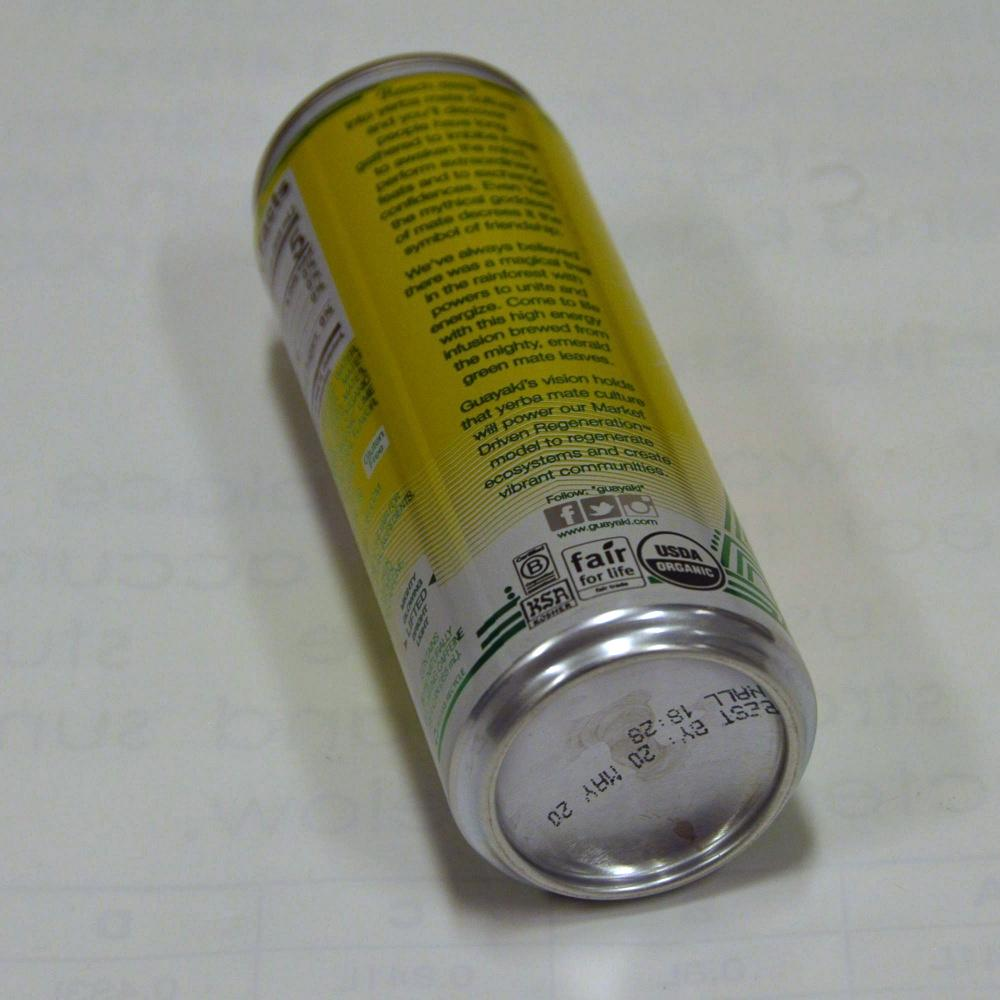Metal: (188, 52, 801, 938)
